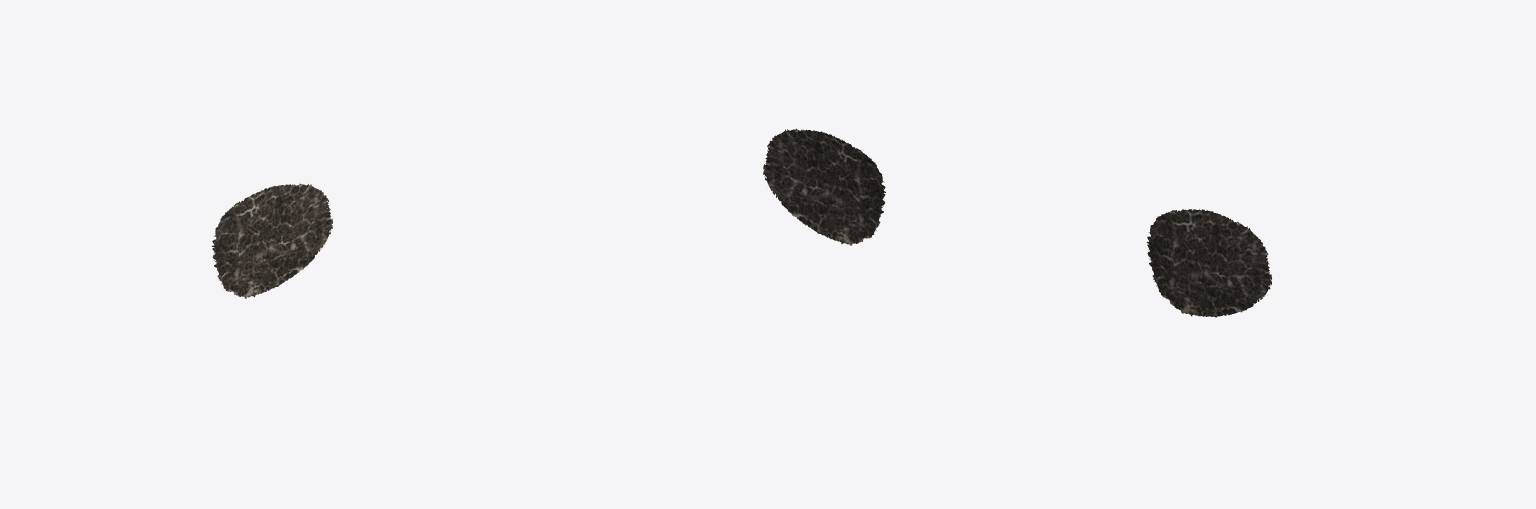
The model's file is cobwebs_strong_02.dae.
3 views of the same model, side by side, from view 1: azimuth 30°, elevation 25°; view 2: azimuth 150°, elevation 25°; view 3: azimuth 330°, elevation 25° (orthographic). The views are drawn at different scales.
Visible parts, largest first — view 1: cobweb_2; view 2: cobweb_2; view 3: cobweb_2.
Boxes of the visible parts, x1=… form: cobweb_2: x1=211, y1=183, x2=332, y2=298; cobweb_2: x1=763, y1=128, x2=885, y2=245; cobweb_2: x1=1146, y1=209, x2=1271, y2=317.
Bounding box in the file's own units: 0.9263 × 0.7986 × 0.1454.
